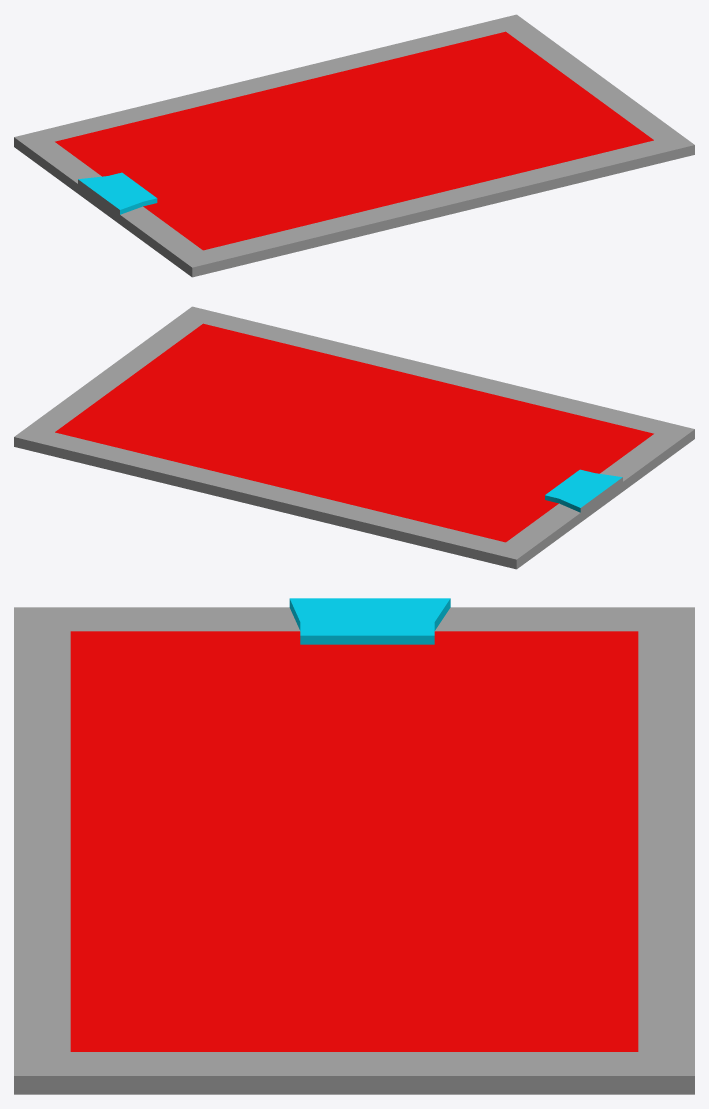
The model's file is ClipBourd.fbx.
The picture shows the model from 3 angles, top to bottom: view 1: azimuth 30°, elevation 25°; view 2: azimuth 150°, elevation 25°; view 3: azimuth 270°, elevation 25°; orthographic projection. The views are drawn at different scales.
Parts seen in each view (by area): view 1: pCube2; view 2: pCube2; view 3: pCube2.
Part boxes in pixels (x1,y1,x2,y2): pCube2: (14,14,694,277); pCube2: (14,306,694,569); pCube2: (14,598,694,1094).
Bounding box in the file's own units: 1.95 × 0.0543 × 1.2.
